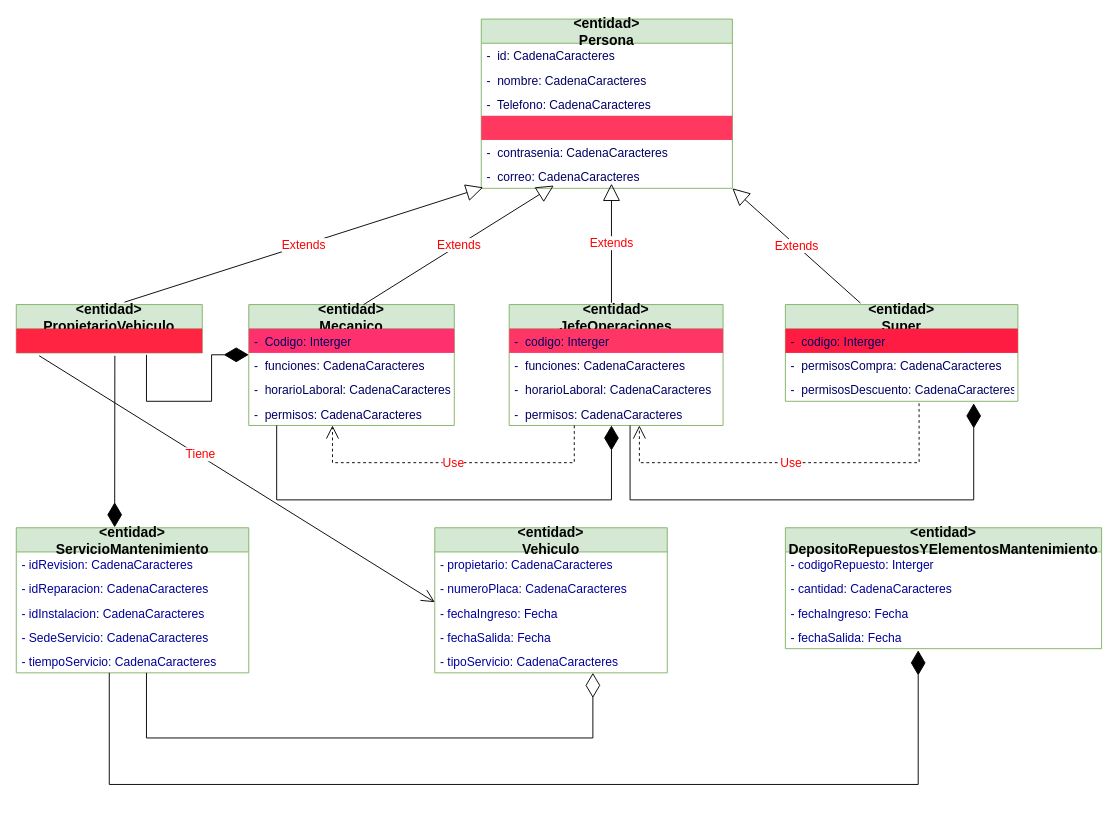
Some shapes in this 1118 by 825 pixel diagram are drawn without their labels. Each missing label, with the centre of its shape:
"- CodigoServicio: Interger" belongs at [109,340].
"- fechaNacimiento: CadenaCaracteres no es relevante" belongs at [606,127].
